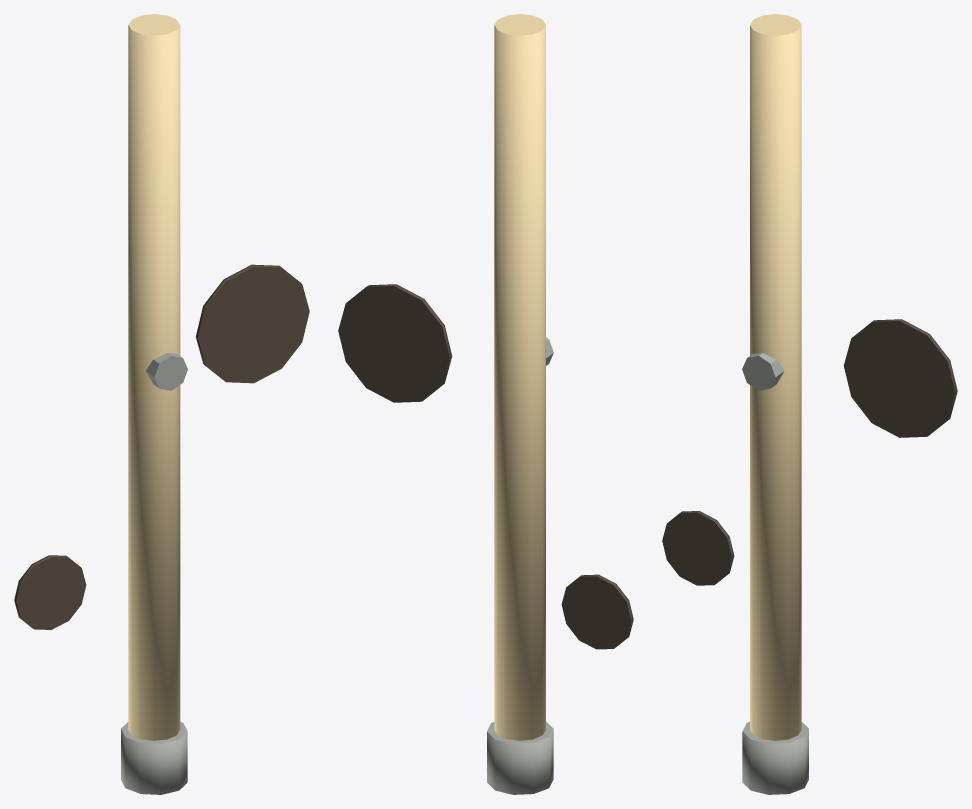
Rendered from drip_m04.obj.
3 renders of one model, left to right at view 1: azimuth 30°, elevation 25°; view 2: azimuth 150°, elevation 25°; view 3: azimuth 330°, elevation 25°, orthographic.
Parts seen in each view (by area): view 1: hose4, wet4_0, wet4_1, end_cap, emitter4; view 2: hose4, wet4_0, wet4_1, end_cap; view 3: hose4, wet4_0, wet4_1, end_cap, emitter4.
Boxes of the visible parts, x1,y1,x2,y2 form: hose4: (128, 14, 180, 740); wet4_0: (195, 264, 309, 383); wet4_1: (14, 555, 86, 629); end_cap: (121, 722, 187, 794); emitter4: (146, 353, 187, 390); hose4: (494, 14, 545, 740); wet4_0: (338, 284, 452, 402); wet4_1: (561, 574, 633, 649); end_cap: (487, 721, 553, 794); hose4: (750, 14, 801, 740); wet4_0: (843, 319, 957, 437); wet4_1: (662, 511, 734, 585); end_cap: (742, 722, 808, 794); emitter4: (742, 353, 784, 390).
Bounding box in the file's own units: 0.21 × 0.5175 × 0.0408.
Materials: 3 (3 with a texture image).
